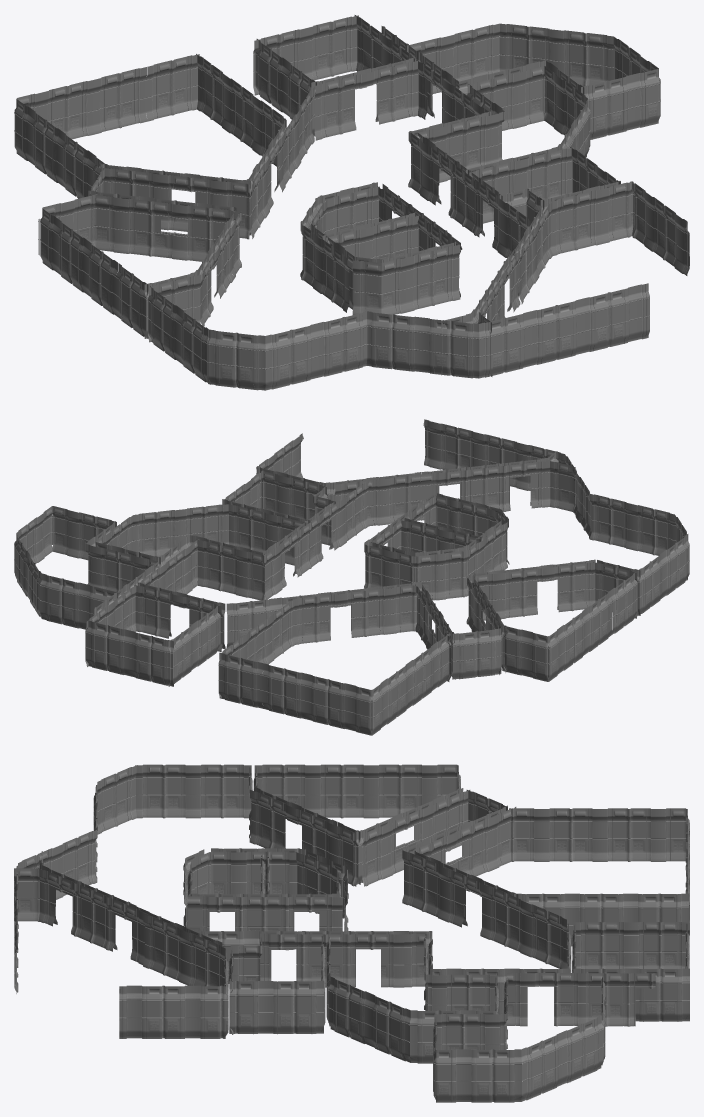
The model's file is ISAResistanceWall.fbx.
3 renders of one model, top to bottom at view 1: azimuth 30°, elevation 25°; view 2: azimuth 150°, elevation 25°; view 3: azimuth 270°, elevation 25°, orthographic. The views are drawn at different scales.
Visible parts, largest first — view 1: polySurface21; view 2: polySurface21; view 3: polySurface21.
Boxes of the visible parts, x1,y1,x2,y2 form: polySurface21: [14, 15, 689, 390]; polySurface21: [14, 419, 689, 735]; polySurface21: [14, 764, 689, 1102].
Bounding box in the file's own units: 4664 × 406 × 4639.
